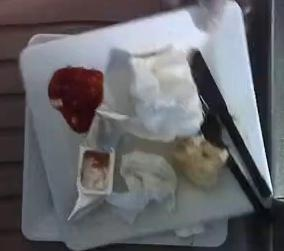bread: (172, 135, 227, 189)
